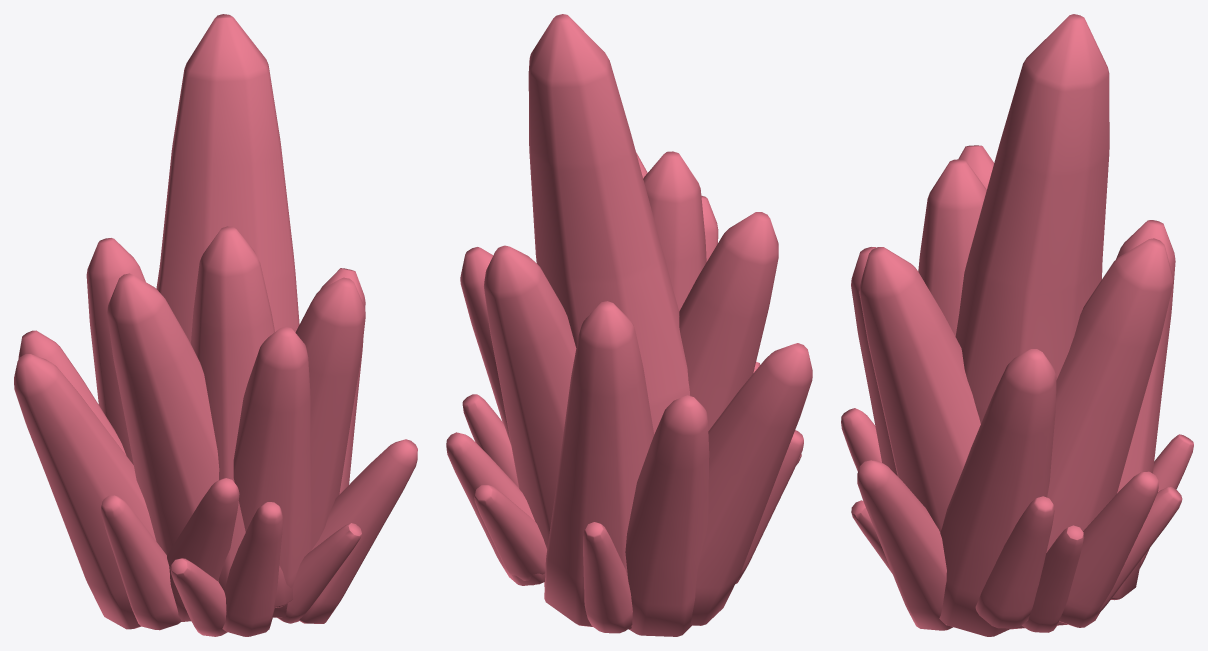
Rendered from Crystal.fbx.
3 renders of one model, left to right at view 1: azimuth 30°, elevation 25°; view 2: azimuth 150°, elevation 25°; view 3: azimuth 270°, elevation 25°, orthographic. The views are drawn at different scales.
Parts seen in each view (by area): view 1: Crystal; view 2: Crystal; view 3: Crystal.
Boxes of the visible parts, box(x1,y1,x2,y2) form: Crystal: box(14, 14, 417, 636); Crystal: box(446, 14, 812, 636); Crystal: box(841, 14, 1193, 636).
Bounding box in the file's own units: 2.14 × 3.42 × 1.81.
